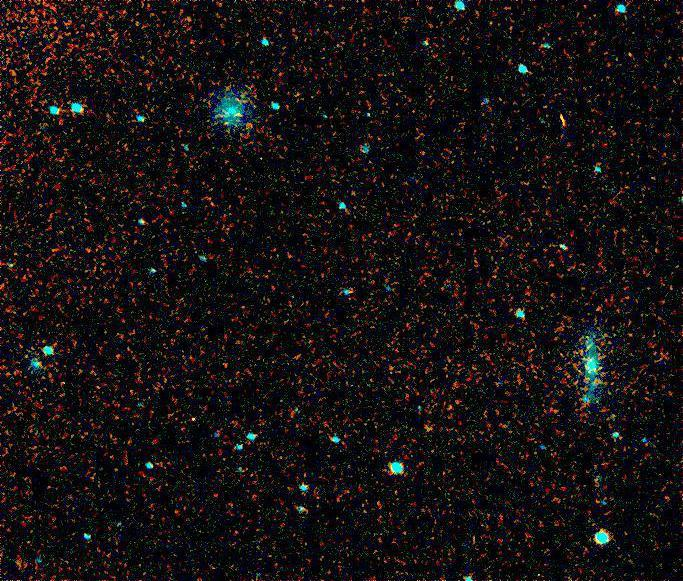star: (586, 356, 616, 386)
